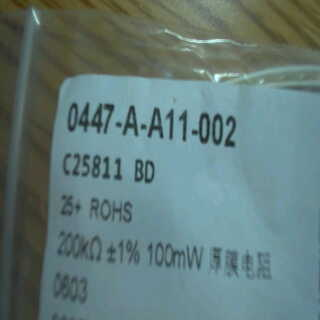200kR: (45, 229, 106, 265)
